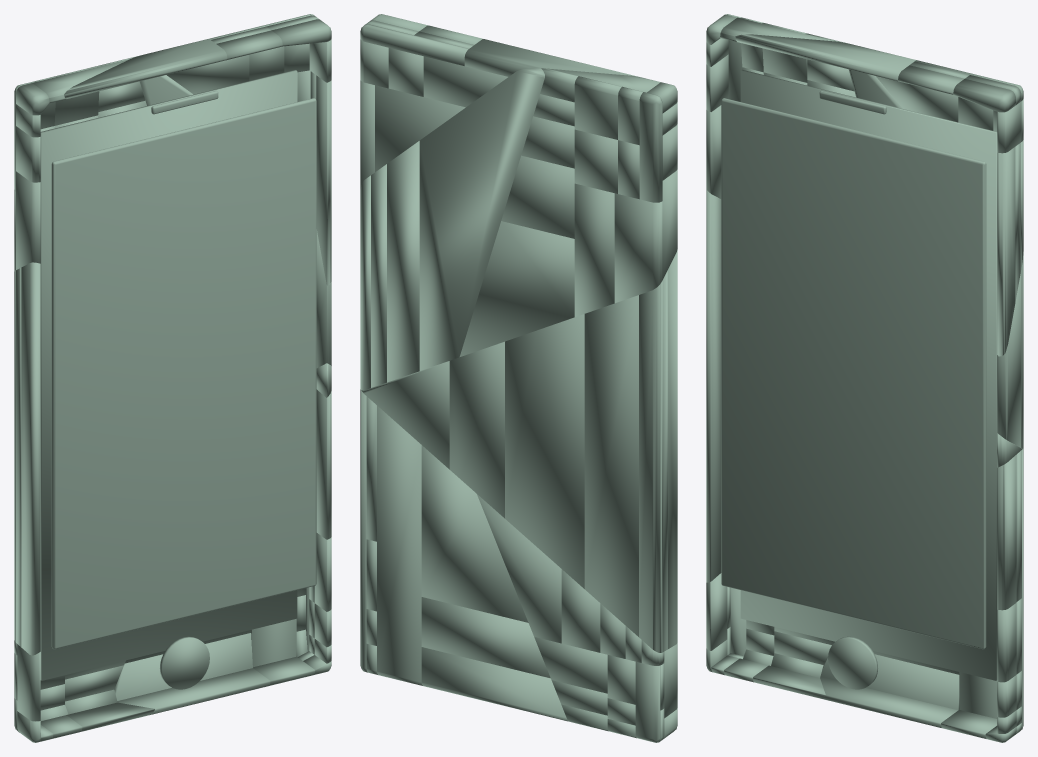
The model's file is collision-hulls.glb.
3 renders of one model, left to right at view 1: azimuth 30°, elevation 25°; view 2: azimuth 150°, elevation 25°; view 3: azimuth 330°, elevation 25°, orthographic.
Parts seen in each view (by area): view 1: fragment-006-hull-00, fragment-007-hull-00, fragment-000-hull-05, fragment-001-hull-05, fragment-003-hull-20, fragment-001-hull-10, fragment-003-hull-17, fragment-003-hull-00, fragment-000-hull-06, fragment-005-hull-04, fragment-012-hull-00, fragment-001-hull-09 (+25 smaller); view 2: fragment-004-hull-04, fragment-000-hull-03, fragment-000-hull-04, fragment-003-hull-16, fragment-003-hull-18, fragment-005-hull-09, fragment-000-hull-07, fragment-000-hull-02, fragment-004-hull-03, fragment-003-hull-19, fragment-003-hull-20, fragment-002-hull-05 (+38 smaller); view 3: fragment-006-hull-00, fragment-007-hull-00, fragment-000-hull-05, fragment-001-hull-10, fragment-001-hull-05, fragment-003-hull-20, fragment-003-hull-00, fragment-004-hull-00, fragment-003-hull-17, fragment-012-hull-00, fragment-001-hull-09, fragment-003-hull-16 (+27 smaller).
Part boxes in pixels (x1,y1,x2,y2): fragment-006-hull-00: [51, 98, 316, 649]; fragment-007-hull-00: [40, 70, 297, 680]; fragment-000-hull-05: [21, 262, 40, 655]; fragment-001-hull-05: [64, 39, 227, 98]; fragment-003-hull-20: [114, 633, 252, 700]; fragment-001-hull-10: [316, 75, 331, 285]; fragment-003-hull-17: [117, 668, 270, 715]; fragment-003-hull-00: [316, 389, 331, 539]; fragment-000-hull-06: [16, 268, 21, 646]; fragment-005-hull-04: [16, 171, 40, 269]; fragment-012-hull-00: [160, 636, 209, 689]; fragment-001-hull-09: [167, 55, 249, 94]; fragment-004-hull-04: [419, 68, 544, 370]; fragment-000-hull-03: [505, 314, 584, 588]; fragment-000-hull-04: [584, 295, 638, 636]; fragment-003-hull-16: [377, 405, 422, 685]; fragment-003-hull-18: [421, 445, 528, 622]; fragment-005-hull-09: [459, 221, 574, 356]; fragment-000-hull-07: [639, 281, 662, 652]; fragment-000-hull-02: [449, 341, 504, 518]; fragment-004-hull-03: [387, 141, 419, 382]; fragment-003-hull-19: [421, 597, 550, 678]; fragment-003-hull-20: [421, 647, 567, 721]; fragment-002-hull-05: [477, 494, 561, 643]; fragment-006-hull-00: [721, 98, 986, 649]; fragment-007-hull-00: [740, 70, 997, 680]; fragment-000-hull-05: [706, 190, 721, 582]; fragment-001-hull-10: [997, 147, 1015, 356]; fragment-001-hull-05: [735, 34, 916, 81]; fragment-003-hull-20: [820, 654, 959, 710]; fragment-003-hull-00: [997, 455, 1016, 610]; fragment-004-hull-00: [997, 270, 1021, 447]; fragment-003-hull-17: [820, 676, 957, 727]; fragment-012-hull-00: [828, 636, 877, 689]; fragment-001-hull-09: [876, 76, 958, 122]; fragment-003-hull-16: [959, 672, 997, 718].
Size of the model in its own units: 0.073 by 0.15 by 0.01.
